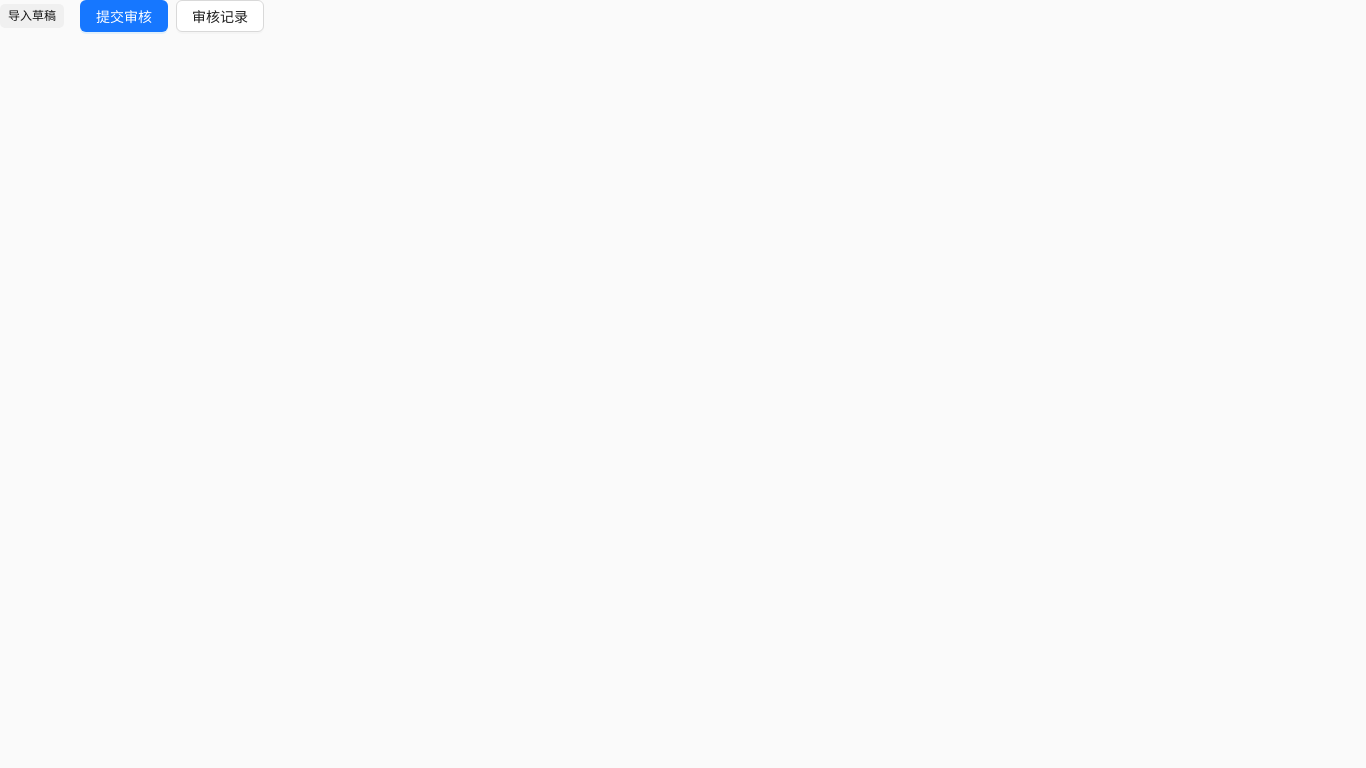
Test: submits a ready draft from the workbench without a separate confirmation step
Later steps or results of the test are not shown.
Click the button "提交审核" at (124, 16), box [80,0,168,32]
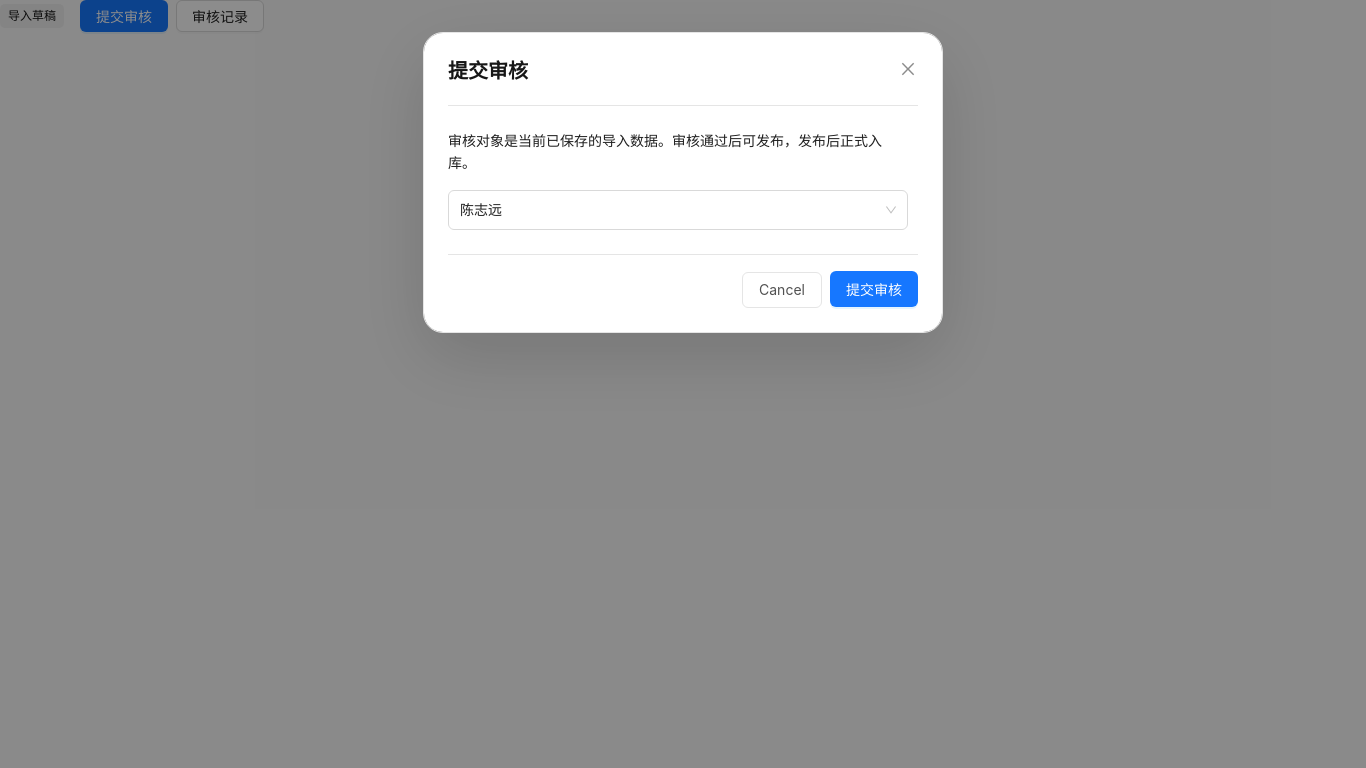
expect the button "提交审核" is enabled: met, box [830,271,918,307]
